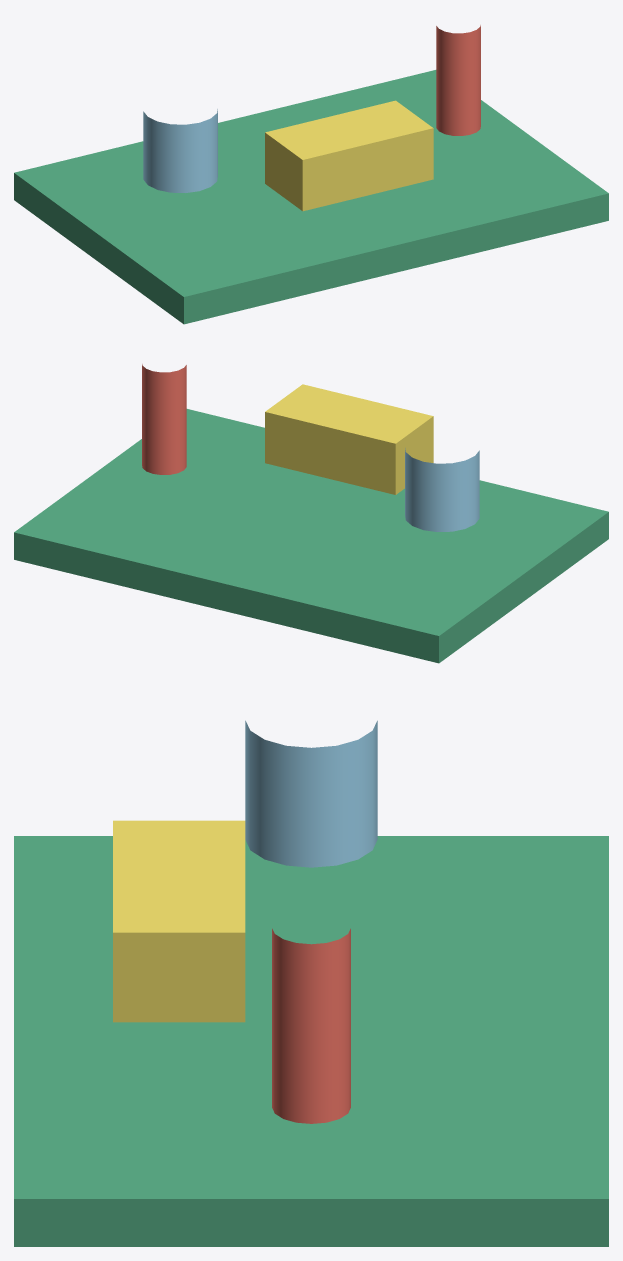
Rendered from feedback_amplifiers_topologies.glb.
3 renders of one model, top to bottom at view 1: azimuth 30°, elevation 25°; view 2: azimuth 150°, elevation 25°; view 3: azimuth 270°, elevation 25°, orthographic. The views are drawn at different scales.
Parts seen in each view (by area): view 1: DiscreteBJTAmplifierPCB, BetaFeedbackResistorNetwork, InputComparisonSummingNode, StabilizedVoltageOutputTerminal; view 2: DiscreteBJTAmplifierPCB, BetaFeedbackResistorNetwork, InputComparisonSummingNode, StabilizedVoltageOutputTerminal; view 3: DiscreteBJTAmplifierPCB, BetaFeedbackResistorNetwork, InputComparisonSummingNode, StabilizedVoltageOutputTerminal.
Part boxes in pixels (left/top/right/bottom): DiscreteBJTAmplifierPCB: left=14, top=70, right=608, bottom=324; BetaFeedbackResistorNetwork: left=265, top=100, right=433, bottom=211; InputComparisonSummingNode: left=143, top=109, right=217, bottom=192; StabilizedVoltageOutputTerminal: left=436, top=25, right=480, bottom=135; DiscreteBJTAmplifierPCB: left=14, top=409, right=608, bottom=663; BetaFeedbackResistorNetwork: left=265, top=384, right=433, bottom=494; InputComparisonSummingNode: left=405, top=448, right=479, bottom=531; StabilizedVoltageOutputTerminal: left=142, top=364, right=186, bottom=474; DiscreteBJTAmplifierPCB: left=14, top=836, right=608, bottom=1246; BetaFeedbackResistorNetwork: left=113, top=820, right=245, bottom=1022; InputComparisonSummingNode: left=245, top=720, right=377, bottom=867; StabilizedVoltageOutputTerminal: left=272, top=928, right=350, bottom=1123.
Bounding box in the file's own units: 1.3 × 0.44 × 0.9.
